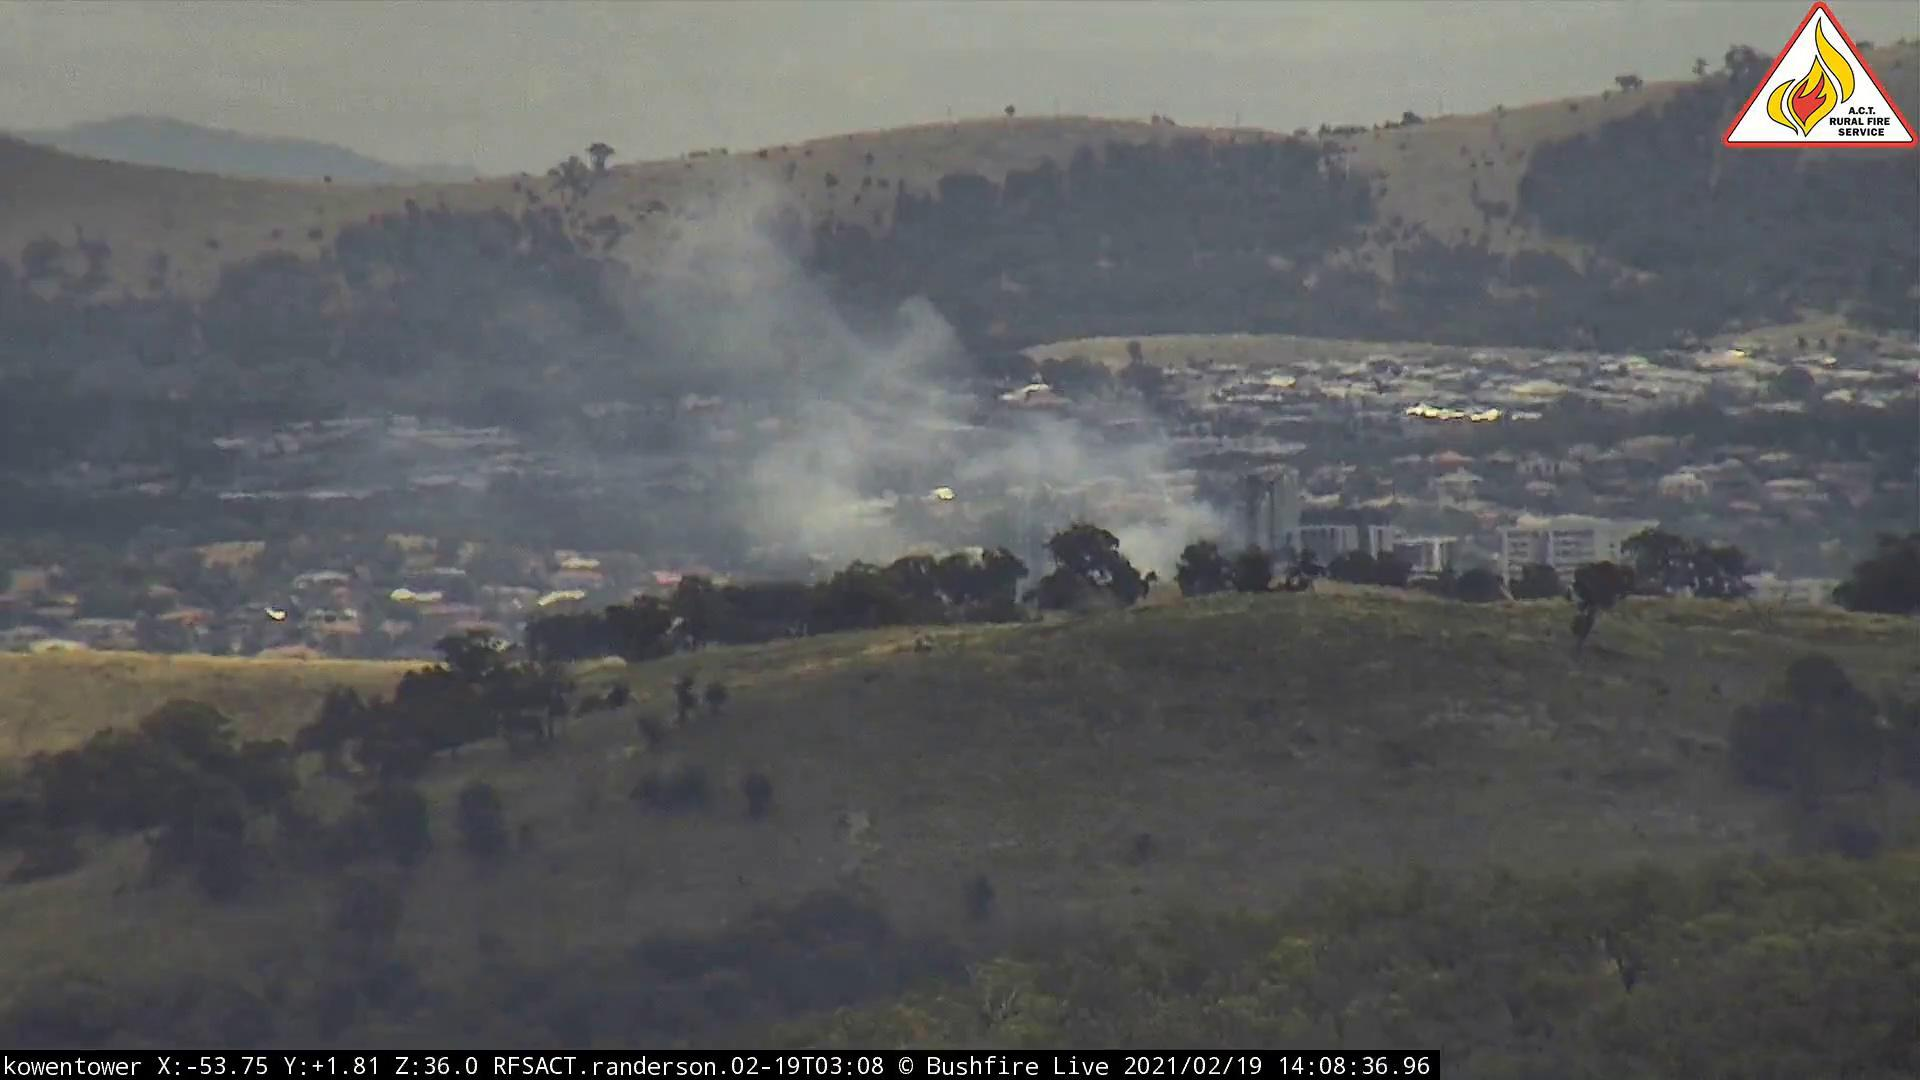Smoke: (351, 154, 1244, 638)
